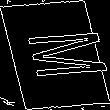M_E: (5, 29, 105, 81)
